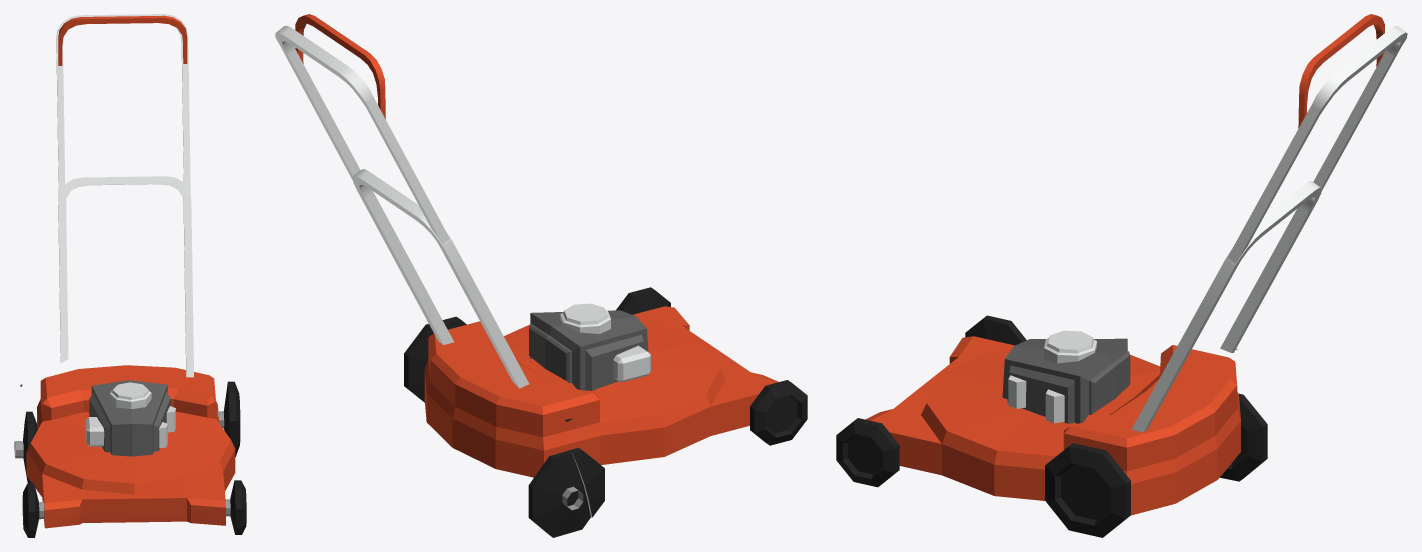
The model's file is Lawnmower_Picnic_DEST.fbx.
The picture shows the model from 3 angles, left to right: view 1: azimuth 30°, elevation 25°; view 2: azimuth 150°, elevation 25°; view 3: azimuth 270°, elevation 25°; orthographic projection. The views are drawn at different scales.
Visible parts, largest first — view 1: LawnMower:LawnMower_mesh_cell.009, LawnMower:LawnMower_mesh_cell.002, LawnMower:LawnMower_mesh_cell.006, LawnMower:LawnMower_mesh_cell.032, LawnMower:LawnMower_mesh_cell.031, LawnMower:LawnMower_mesh_cell.030, LawnMower:LawnMower_mesh_cell.008, LawnMower:LawnMower_mesh_cell.016, LawnMower:LawnMower_mesh_cell.023, LawnMower:LawnMower_mesh_cell.022, LawnMower:LawnMower_mesh_cell.035, LawnMower:LawnMower_mesh_cell.015 (+12 smaller); view 2: LawnMower:LawnMower_mesh_cell.002, LawnMower:LawnMower_mesh_cell.009, LawnMower:LawnMower_mesh_cell.006, LawnMower:LawnMower_mesh_cell.001, LawnMower:LawnMower_mesh_cell.031, LawnMower:LawnMower_mesh_cell.016, LawnMower:LawnMower_mesh_cell.008, LawnMower:LawnMower_mesh_cell.011, LawnMower:LawnMower_mesh_cell.023, LawnMower:LawnMower_mesh_cell.022, LawnMower:LawnMower_mesh_cell.030, LawnMower:LawnMower_mesh_cell.024 (+8 smaller); view 3: LawnMower:LawnMower_mesh_cell.002, LawnMower:LawnMower_mesh_cell.009, LawnMower:LawnMower_mesh_cell.006, LawnMower:LawnMower_mesh_cell.024, LawnMower:LawnMower_mesh_cell.008, LawnMower:LawnMower_mesh_cell.031, LawnMower:LawnMower_mesh_cell.014, LawnMower:LawnMower_mesh_cell.016, LawnMower:LawnMower_mesh_cell.001, LawnMower:LawnMower_mesh_cell.023, LawnMower:LawnMower_mesh_cell.022, LawnMower:LawnMower_mesh_cell.030 (+6 smaller).
Boxes of the visible parts, x1,y1,x2,y2 form: LawnMower:LawnMower_mesh_cell.009: (40,365,235,525); LawnMower:LawnMower_mesh_cell.002: (26,367,230,527); LawnMower:LawnMower_mesh_cell.006: (89,380,170,456); LawnMower:LawnMower_mesh_cell.032: (74,481,151,523); LawnMower:LawnMower_mesh_cell.031: (103,14,190,194); LawnMower:LawnMower_mesh_cell.030: (111,176,192,253); LawnMower:LawnMower_mesh_cell.008: (101,365,219,421); LawnMower:LawnMower_mesh_cell.016: (56,15,103,198); LawnMower:LawnMower_mesh_cell.023: (184,253,193,377); LawnMower:LawnMower_mesh_cell.022: (58,240,68,362); LawnMower:LawnMower_mesh_cell.035: (109,382,151,409); LawnMower:LawnMower_mesh_cell.015: (58,177,111,240); LawnMower:LawnMower_mesh_cell.002: (424,306,774,477); LawnMower:LawnMower_mesh_cell.009: (464,306,778,434); LawnMower:LawnMower_mesh_cell.006: (529,310,648,390); LawnMower:LawnMower_mesh_cell.001: (528,451,590,537); LawnMower:LawnMower_mesh_cell.031: (275,25,360,179); LawnMower:LawnMower_mesh_cell.016: (325,55,449,244); LawnMower:LawnMower_mesh_cell.008: (427,325,498,387); LawnMower:LawnMower_mesh_cell.011: (750,382,803,445); LawnMower:LawnMower_mesh_cell.023: (382,233,453,344); LawnMower:LawnMower_mesh_cell.022: (458,275,529,388); LawnMower:LawnMower_mesh_cell.030: (352,169,405,239); LawnMower:LawnMower_mesh_cell.024: (404,319,452,402); LawnMower:LawnMower_mesh_cell.002: (865,336,1240,515); LawnMower:LawnMower_mesh_cell.009: (871,336,1228,495); LawnMower:LawnMower_mesh_cell.006: (1002,338,1130,423); LawnMower:LawnMower_mesh_cell.024: (1060,445,1130,537); LawnMower:LawnMower_mesh_cell.008: (1088,393,1217,508); LawnMower:LawnMower_mesh_cell.031: (1227,40,1386,263); LawnMower:LawnMower_mesh_cell.014: (836,418,899,487); LawnMower:LawnMower_mesh_cell.016: (1313,25,1407,190); LawnMower:LawnMower_mesh_cell.001: (1220,393,1267,481); LawnMower:LawnMower_mesh_cell.023: (1131,312,1210,432); LawnMower:LawnMower_mesh_cell.022: (1220,235,1295,352); LawnMower:LawnMower_mesh_cell.030: (1196,198,1297,317).
Size of the model in its own units: 274 by 355 by 349.
